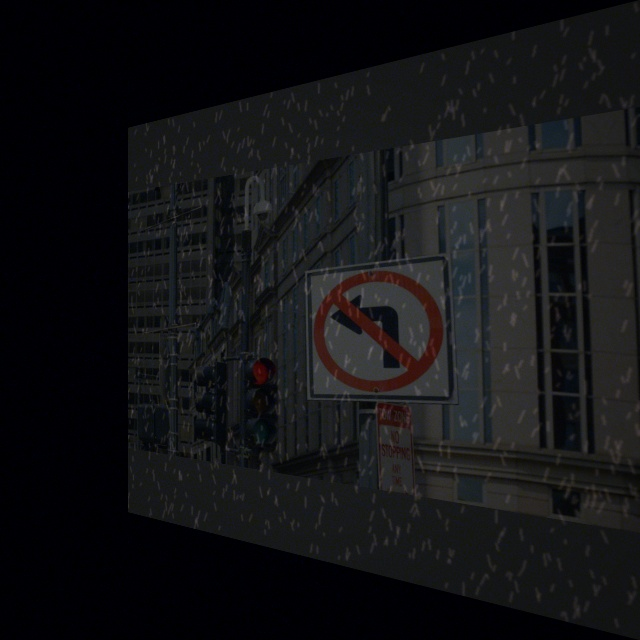Left_Turn_Prohibited: (306, 262, 458, 404)
